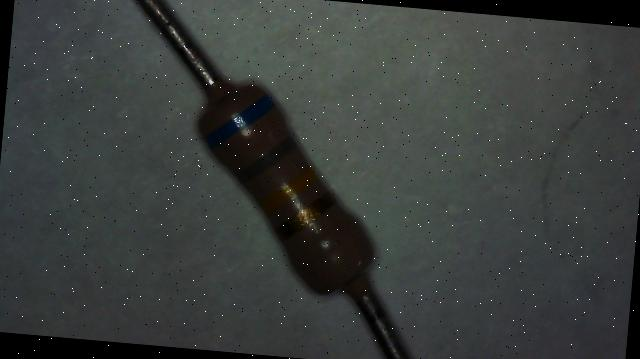blue: (204, 90, 275, 153)
gold: (276, 189, 334, 243)
grey: (235, 132, 298, 188)
resistor: (166, 55, 406, 327)
yellow: (258, 163, 319, 216)
